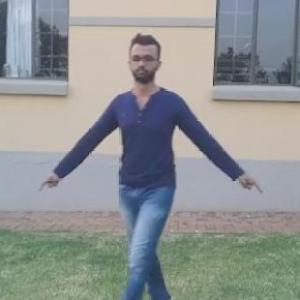land: (63, 46, 230, 292)
